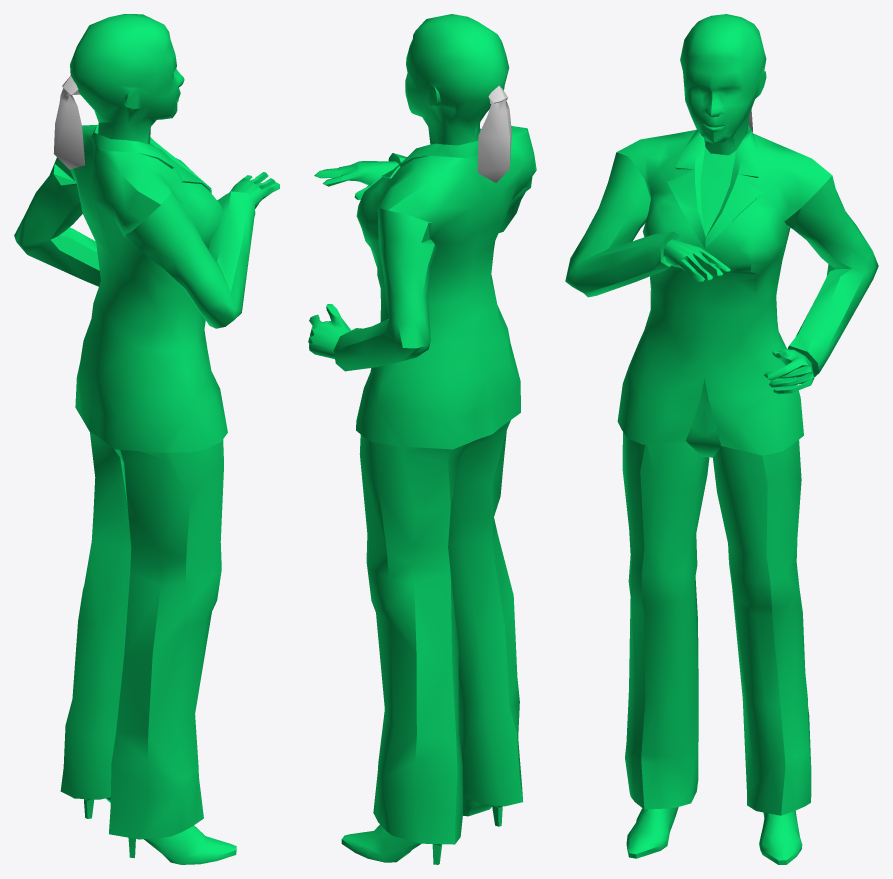
The model's file is SM_Woman_Pants_Stand_Talking.glb.
3 renders of one model, left to right at view 1: azimuth 30°, elevation 25°; view 2: azimuth 150°, elevation 25°; view 3: azimuth 270°, elevation 25°, orthographic.
Visible parts, largest first — view 1: SM_Woman_Pants_Stand_Talking; view 2: SM_Woman_Pants_Stand_Talking; view 3: SM_Woman_Pants_Stand_Talking.
Part boxes in pixels (x1,y1,x2,y2): SM_Woman_Pants_Stand_Talking: (14, 14, 279, 864); SM_Woman_Pants_Stand_Talking: (308, 14, 536, 864); SM_Woman_Pants_Stand_Talking: (565, 14, 878, 864).
Bounding box in the file's own units: 0.4539 × 1.71 × 0.6016.
